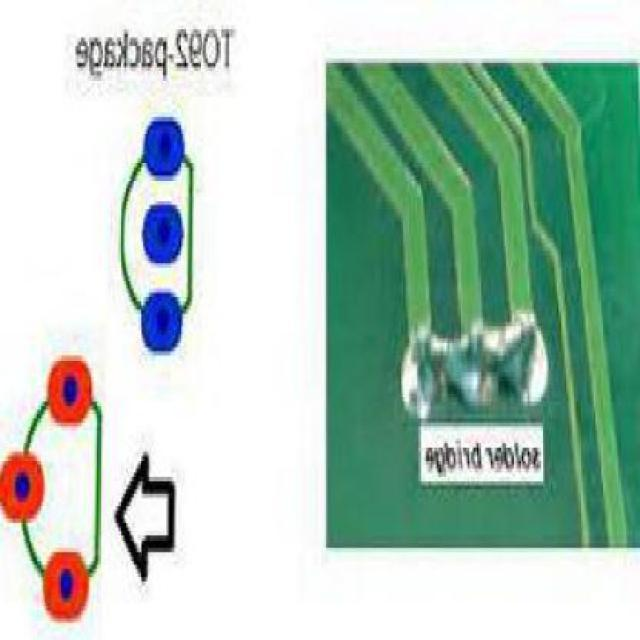Soldering shorted: (395, 305, 548, 410)
